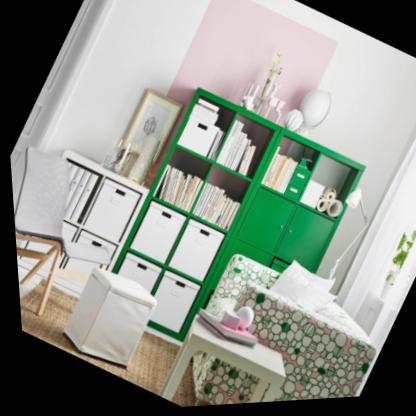Chair: (7, 136, 147, 340)
Sofa: (148, 237, 395, 410)
Table: (144, 304, 295, 410)
